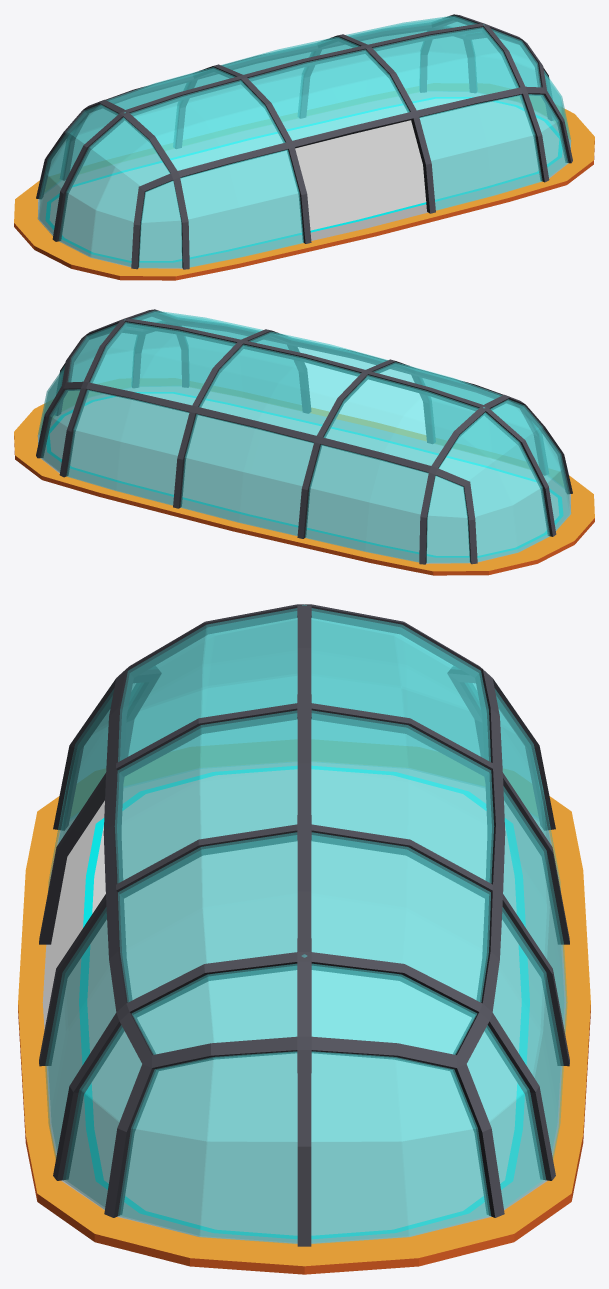
The model's file is GreenHouse_02.glb.
3 views of the same model, one above another, from view 1: azimuth 30°, elevation 25°; view 2: azimuth 150°, elevation 25°; view 3: azimuth 270°, elevation 25° (orthographic). The views are drawn at different scales.
Visible parts, largest first — view 1: GreenHouse_02; view 2: GreenHouse_02; view 3: GreenHouse_02.
Boxes of the visible parts, x1,y1,x2,y2 form: GreenHouse_02: (14,14,594,280); GreenHouse_02: (14,309,594,575); GreenHouse_02: (18,604,590,1274).
Size of what is drawn, in the model's own units: 25.01 by 5.47 by 11.48.
Materials: 2 (2 with a texture image).
